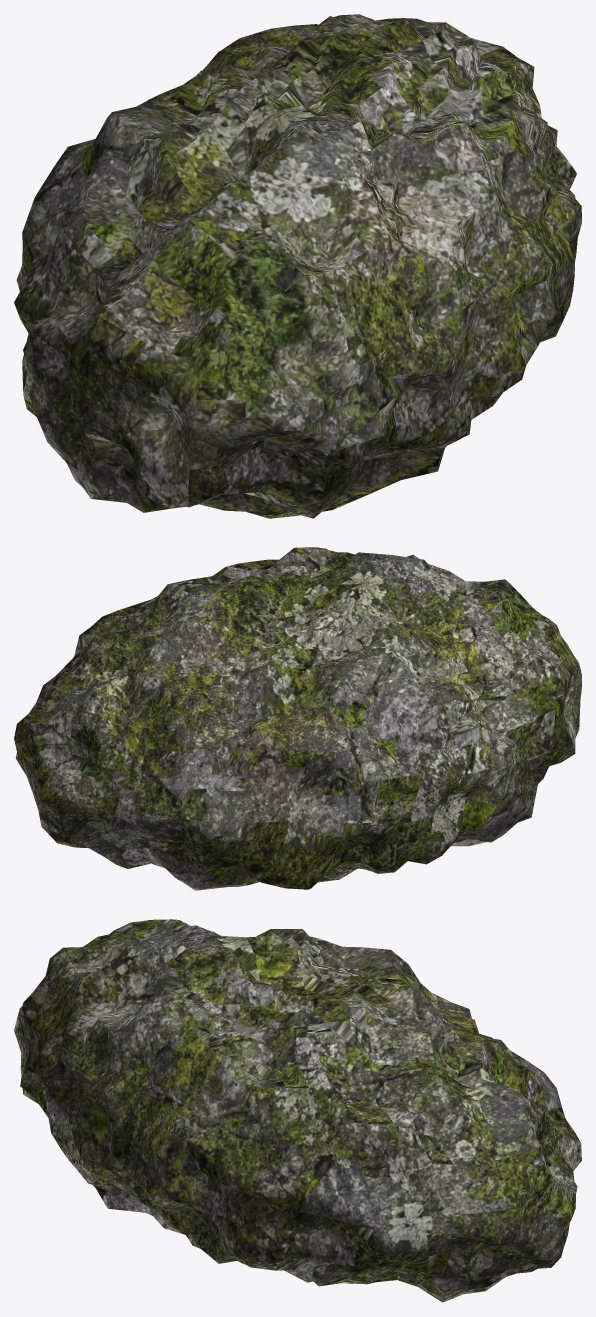
File: my_rock2.glb
3 renders of one model, top to bottom at view 1: azimuth 30°, elevation 25°; view 2: azimuth 150°, elevation 25°; view 3: azimuth 270°, elevation 25°, orthographic. The views are drawn at different scales.
Parts seen in each view (by area): view 1: Cube; view 2: Cube; view 3: Cube.
Boxes of the visible parts, x1,y1,x2,y2 form: Cube: (14,14,581,518); Cube: (14,547,581,890); Cube: (14,919,581,1302).
Bounding box in the file's own units: 10.88 × 6.58 × 11.05.
1 material, 1 textured.
